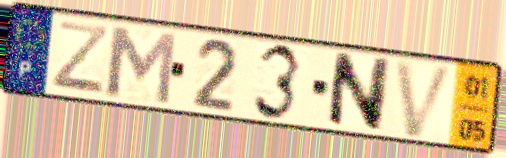2: (191, 37, 241, 115)
3: (249, 42, 311, 123)
M: (104, 22, 179, 108)
N: (324, 50, 394, 134)
V: (392, 58, 458, 140)
Z: (49, 18, 111, 97)
